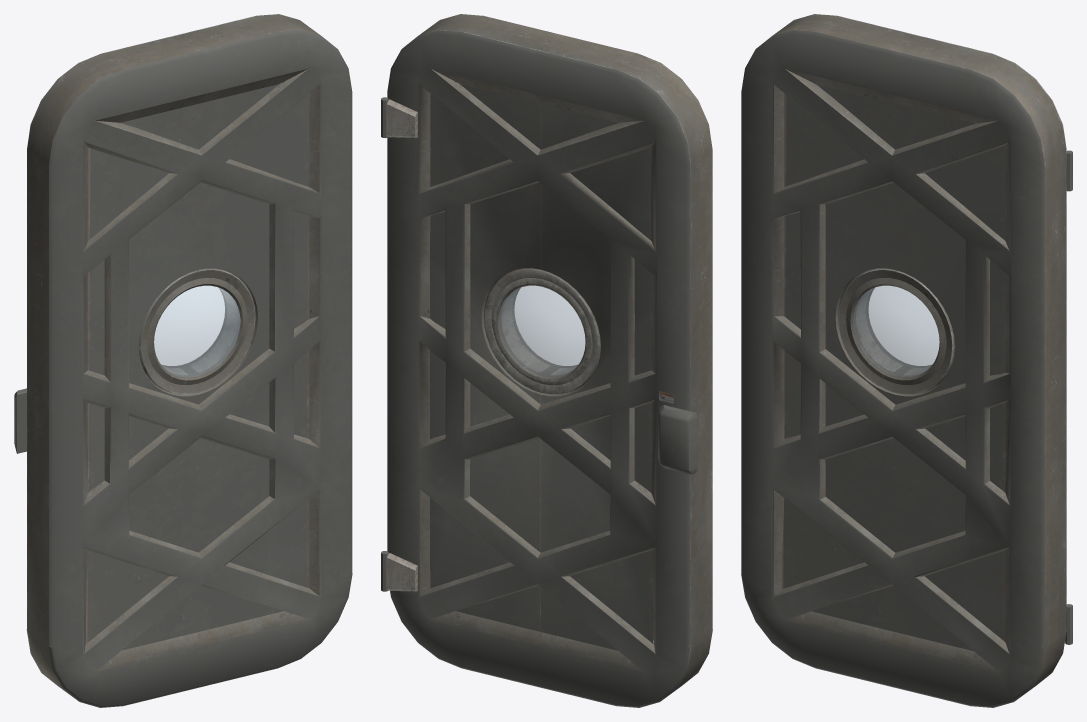
The model's file is SM_SecureDoor_Lab_mo.glb.
The picture shows the model from 3 angles, left to right: view 1: azimuth 30°, elevation 25°; view 2: azimuth 150°, elevation 25°; view 3: azimuth 330°, elevation 25°; orthographic projection.
Parts seen in each view (by area): view 1: SM_SecureDoor_Lab_mo; view 2: SM_SecureDoor_Lab_mo; view 3: SM_SecureDoor_Lab_mo.
Part boxes in pixels (<box>): SM_SecureDoor_Lab_mo: <box>14,14,352,707</box>; SM_SecureDoor_Lab_mo: <box>381,14,712,707</box>; SM_SecureDoor_Lab_mo: <box>741,14,1072,707</box>.
Size of the model in its own units: 1.47 by 2.83 by 0.2536.
Materials: 2 (1 with a texture image).
